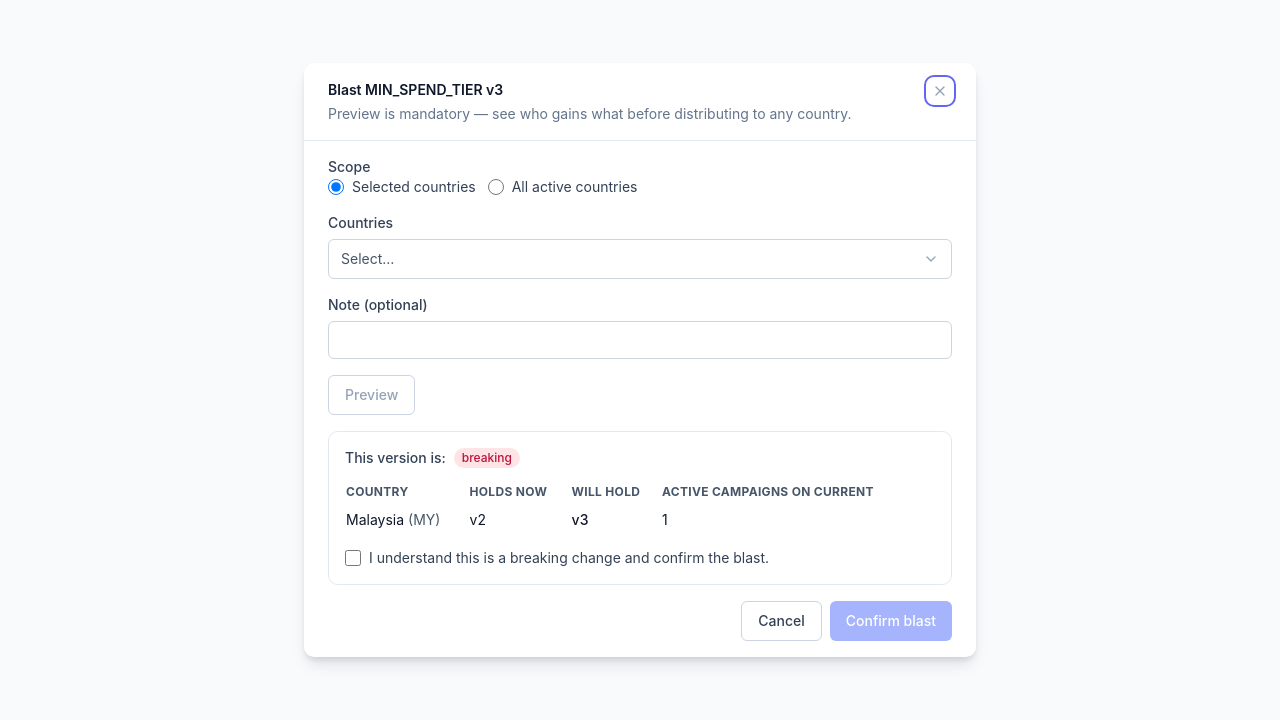
Test case: BlastDialog › a breaking version requires the confirmation checkbox before Confirm blast enables
Check: the button "Confirm blast" is disabled, box [830,601,952,641]
Step 1. Click the checkbox labelled "understand this is a breaking change" → (353, 558), box [345,550,361,566]
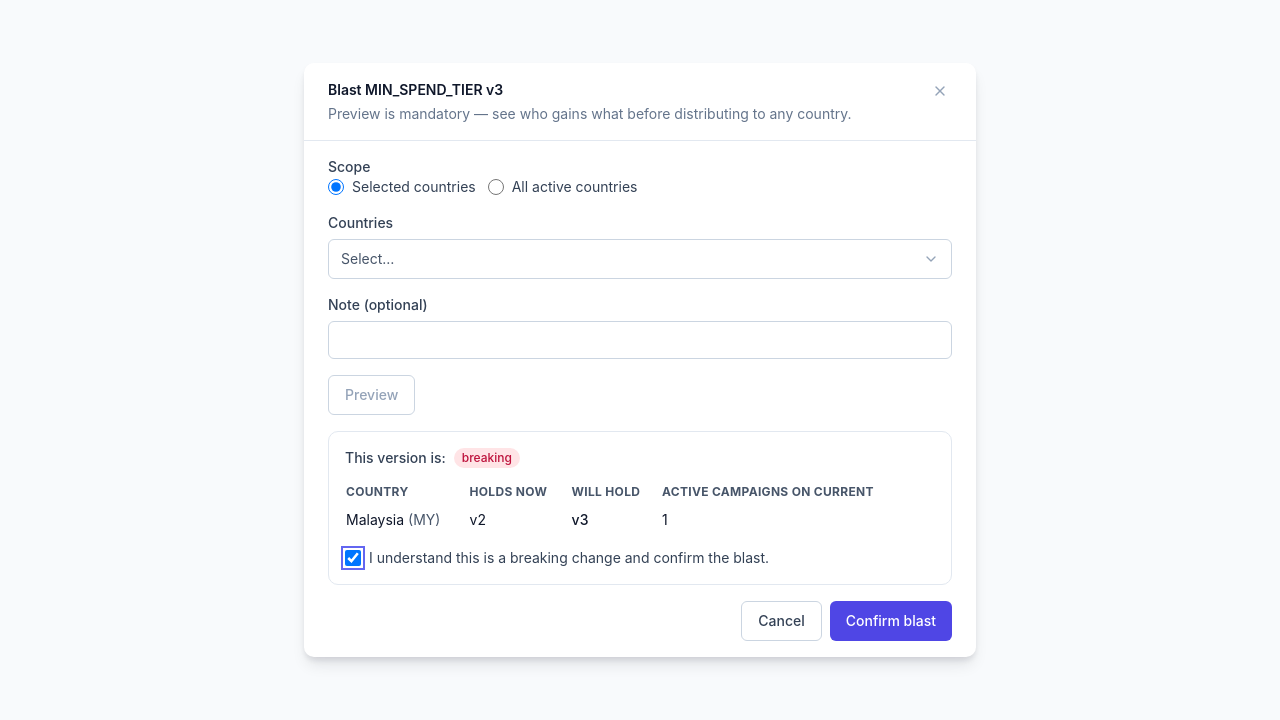
Check: the button "Confirm blast" is enabled, box [830,601,952,641]
